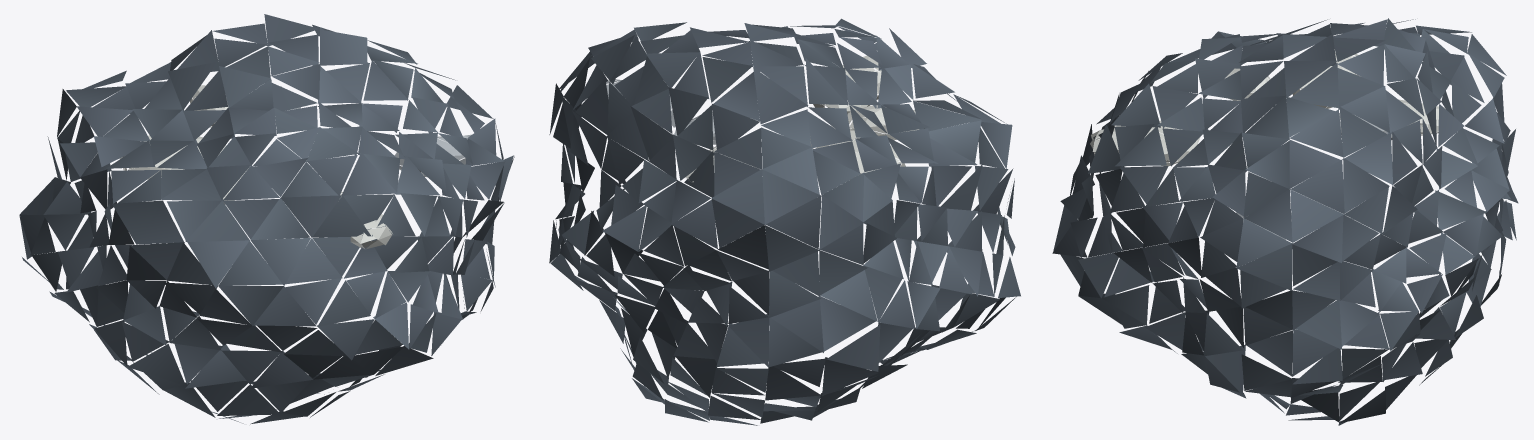
Rendered from small-lod1.glb.
3 views of the same model, side by side, from view 1: azimuth 30°, elevation 25°; view 2: azimuth 150°, elevation 25°; view 3: azimuth 270°, elevation 25° (orthographic). The views are drawn at different scales.
Parts seen in each view (by area): view 1: tin-host-rock, tin-mineral-seams; view 2: tin-host-rock, tin-mineral-seams; view 3: tin-host-rock, tin-mineral-seams.
Part boxes in pixels (x1,y1,x2,y2): tin-host-rock: [19, 14, 514, 424]; tin-mineral-seams: [119, 85, 471, 249]; tin-host-rock: [549, 18, 1020, 425]; tin-mineral-seams: [606, 55, 919, 182]; tin-host-rock: [1052, 18, 1518, 425]; tin-mineral-seams: [1090, 49, 1452, 239].
Size of the model in its own units: 1.64 by 1.35 by 1.56.
